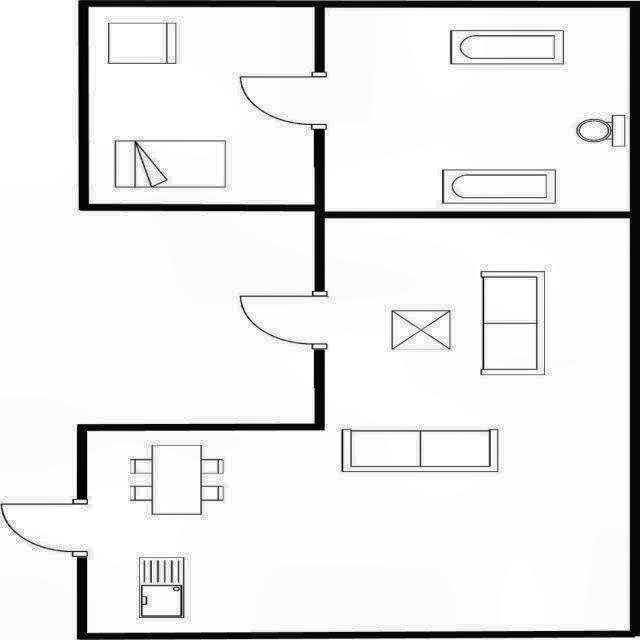room: (86, 217, 630, 633), (325, 7, 629, 211), (89, 7, 315, 205)
